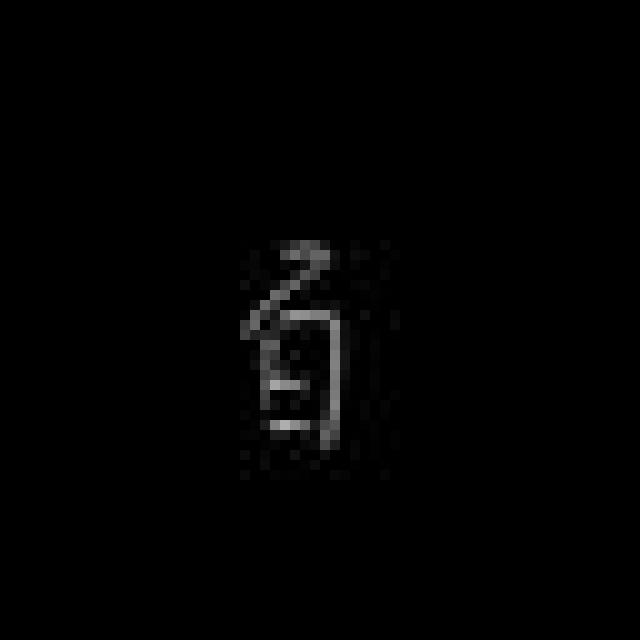100 -a hundred-: (229, 231, 358, 465)
